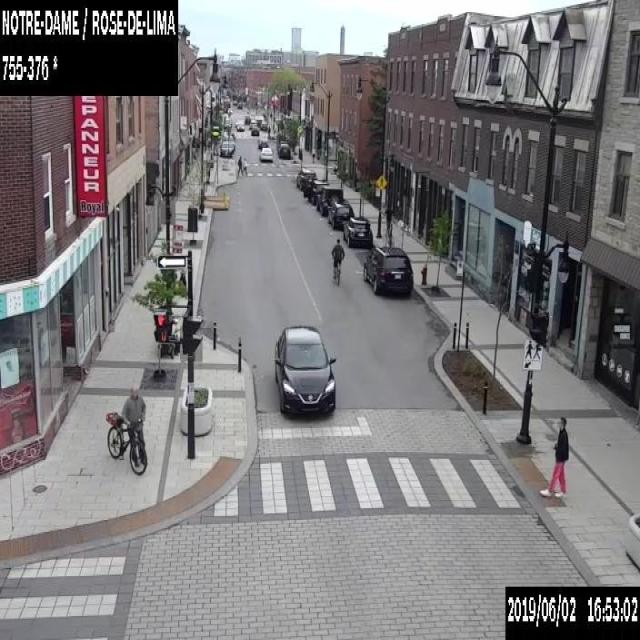cyclist: (330, 236, 344, 284)
pedestrian: (105, 384, 147, 475), (538, 413, 569, 499), (236, 155, 242, 176), (242, 155, 246, 176), (311, 146, 315, 162)
vehicle: (274, 325, 335, 417), (362, 246, 412, 294), (343, 216, 372, 246), (315, 186, 343, 216), (327, 199, 354, 228), (303, 179, 327, 203), (296, 167, 316, 189), (219, 140, 233, 156), (277, 143, 290, 157), (259, 146, 272, 160), (223, 135, 234, 149), (254, 115, 263, 126), (258, 138, 268, 147), (250, 126, 259, 135), (243, 115, 250, 124), (260, 120, 266, 129), (236, 124, 244, 130), (224, 118, 230, 126), (249, 120, 255, 127), (236, 102, 242, 108), (227, 106, 232, 112), (232, 100, 236, 104)
